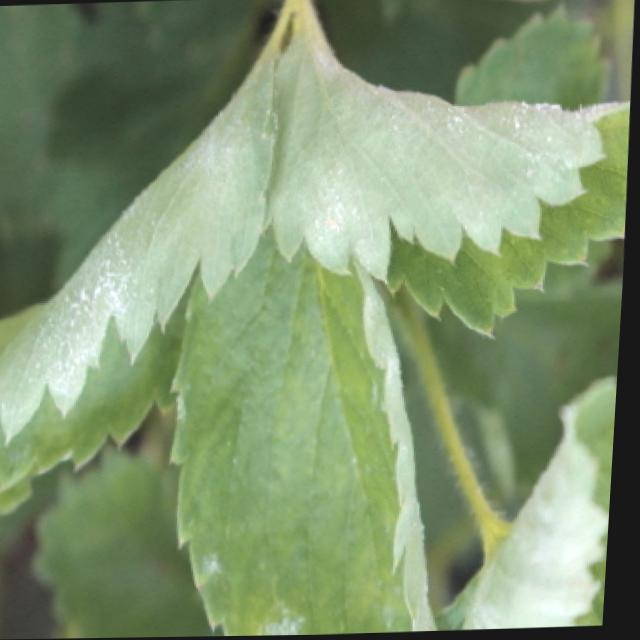Powdery Mildew Leaf: (0, 32, 281, 496), (270, 17, 631, 346), (173, 231, 447, 637), (445, 374, 622, 632)
